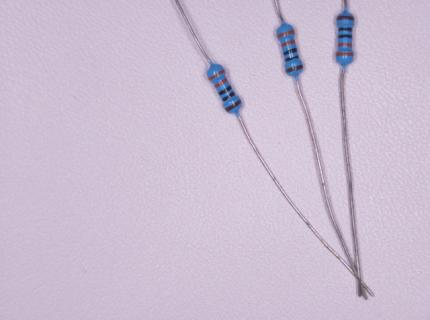Orange band: (208, 69, 226, 81), (214, 78, 229, 89), (277, 30, 295, 38), (281, 39, 295, 48), (336, 52, 354, 57), (338, 43, 352, 47)
